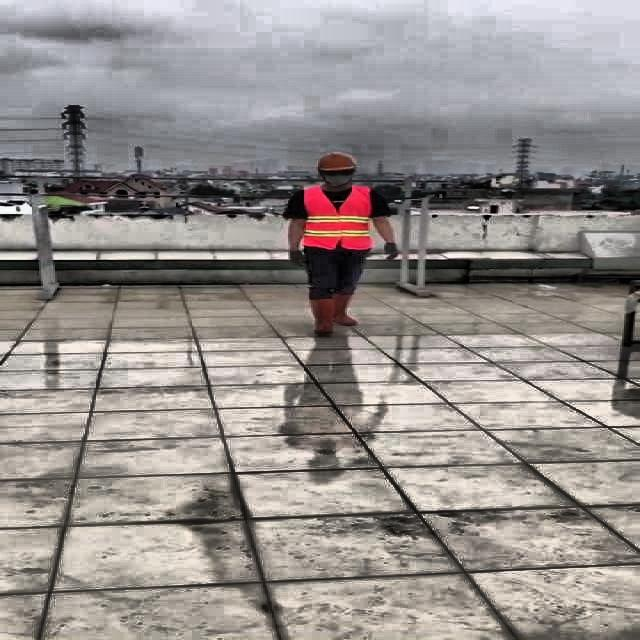safety_helmet: (313, 151, 359, 174)
safety_jacket: (302, 185, 373, 249)
